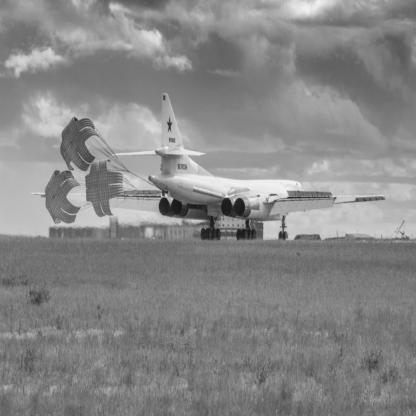Tu160: (30, 93, 387, 242)
